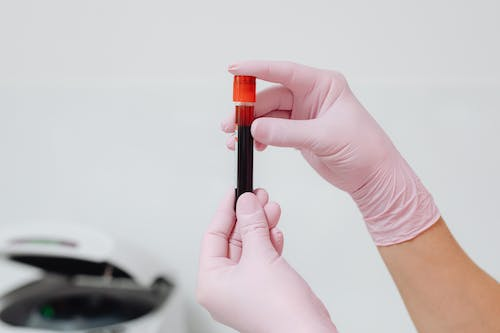blood: (234, 103, 255, 213)
